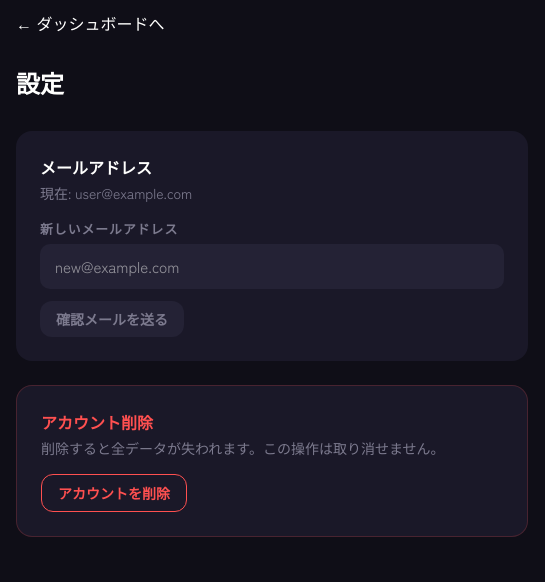
Test: SettingsPage - メールアドレス変更 › API エラー時にエラーメッセージが表示される
Type "taken@example.com" into the field with placeholder "new@example.com". click: (272, 267)
box: [40,244,504,289]
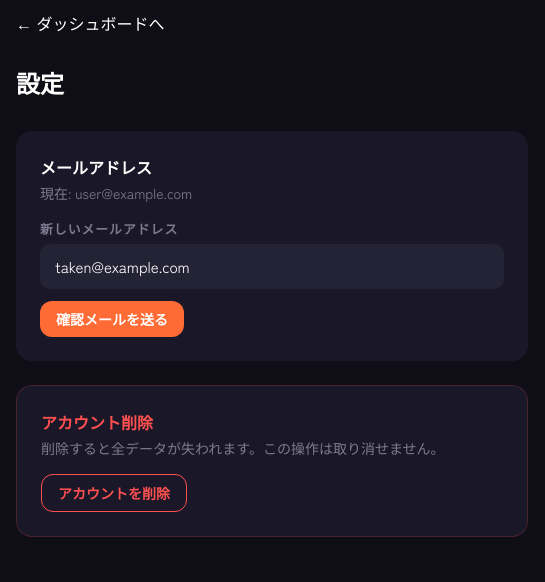
Submit the form "確認メールを送る", box [40,219,504,337]
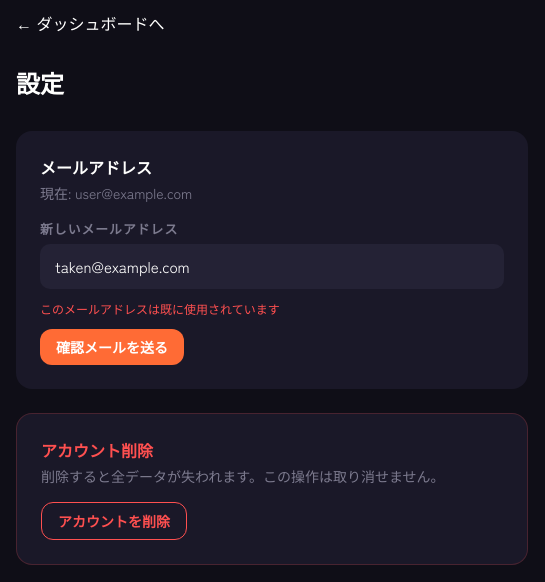
expect the text "このメールアドレスは既に使用されています" is shown: met, box [40,300,280,317]
